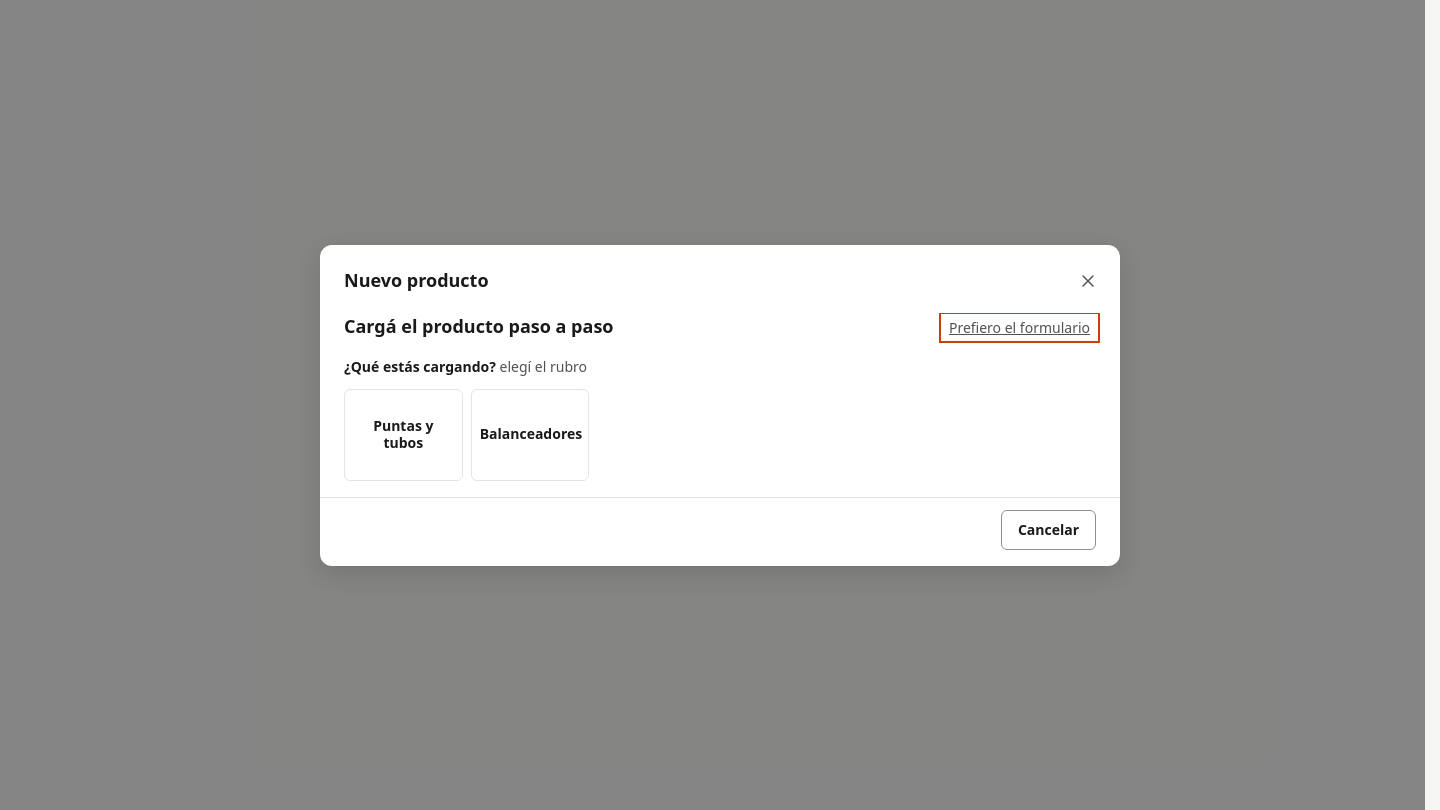
Test: Qué exige antes de mandar › sin referencia, sin nombre y sin categoría no manda nada, y lo dice
Click the button "Prefiero el formulario" at (1019, 327), box [943, 316, 1096, 338]
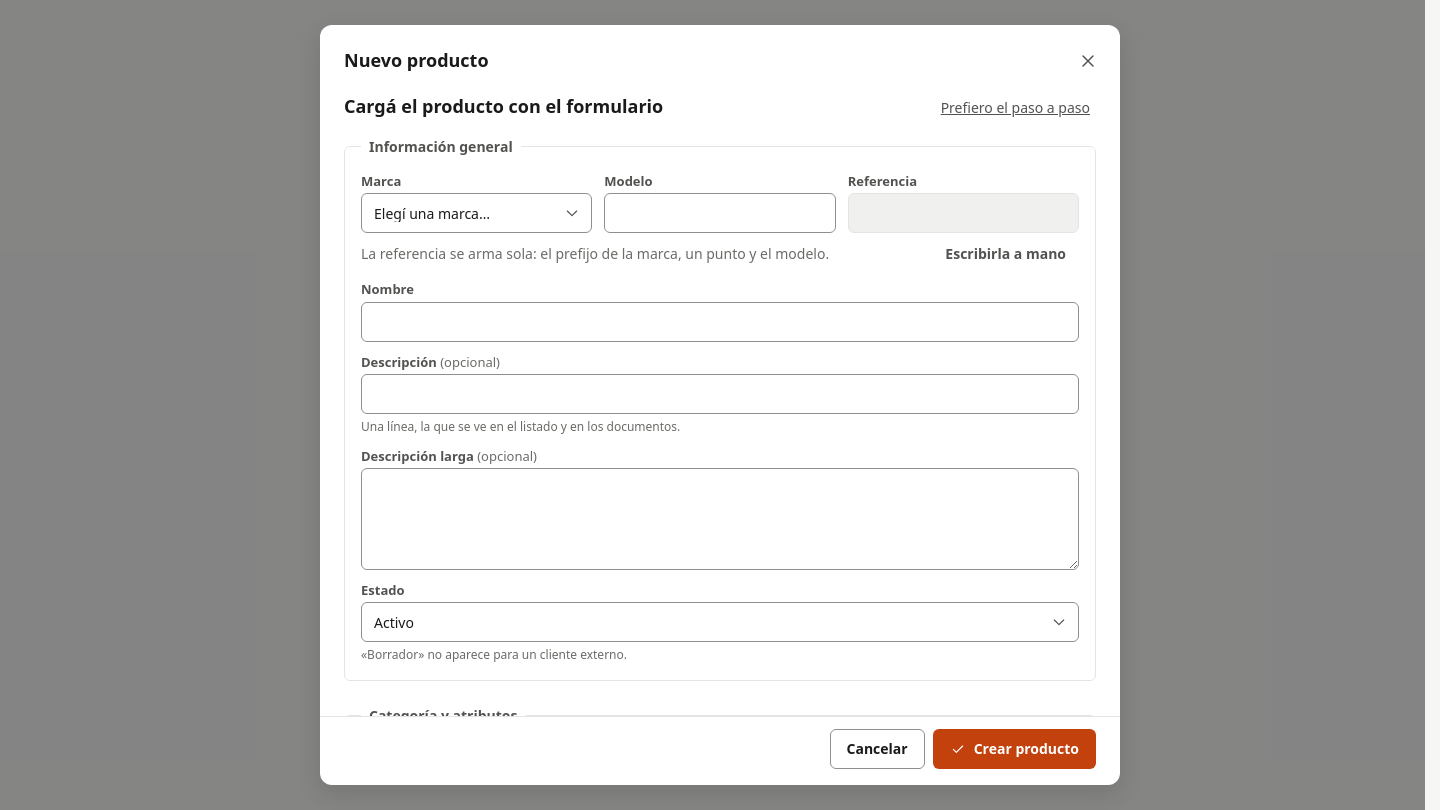
Click the button "Crear producto" at (1014, 749), box [933, 729, 1096, 769]
(page scrolled)
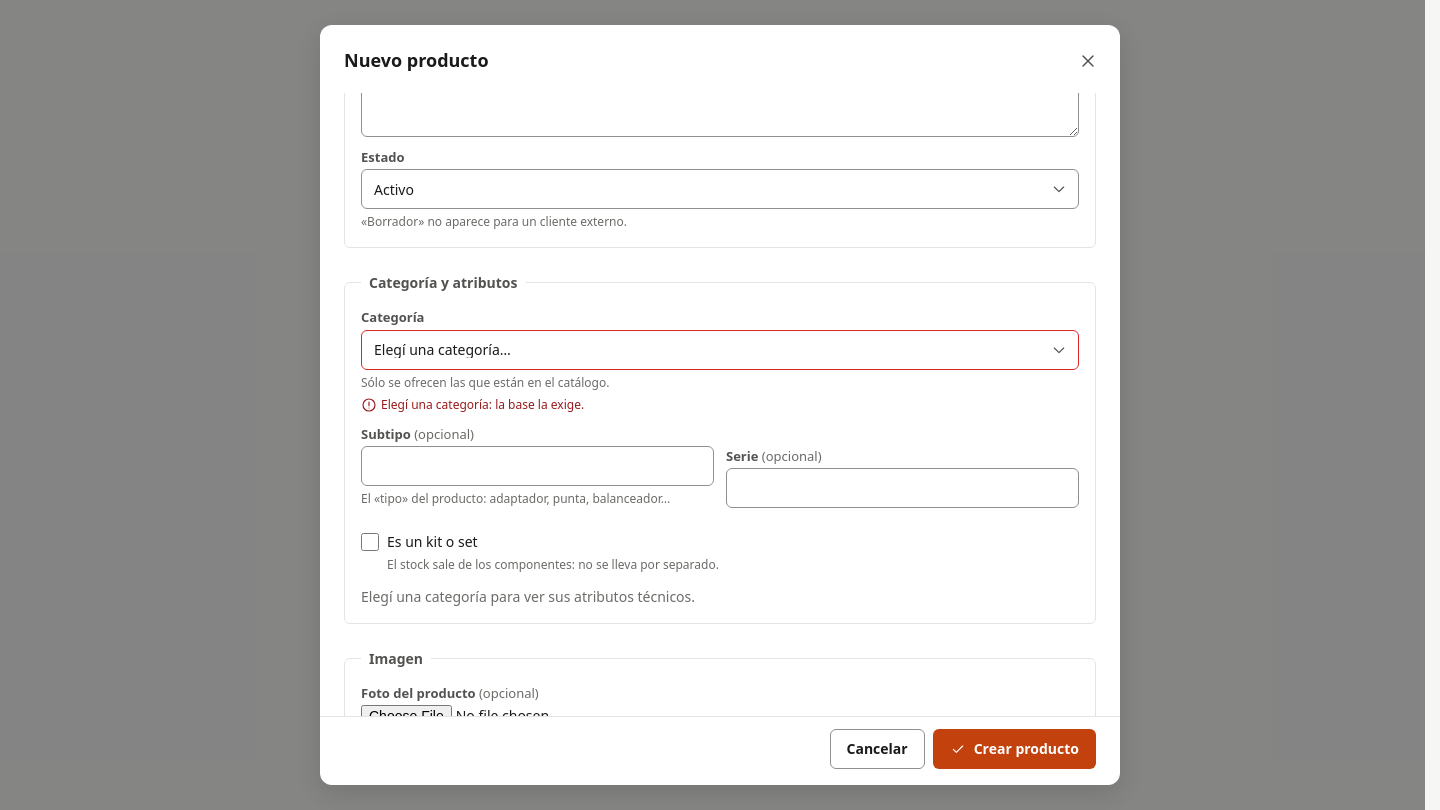
Expected: the text "Elegí una categoría: la base la exige." is shown, [381, 396, 584, 414]
